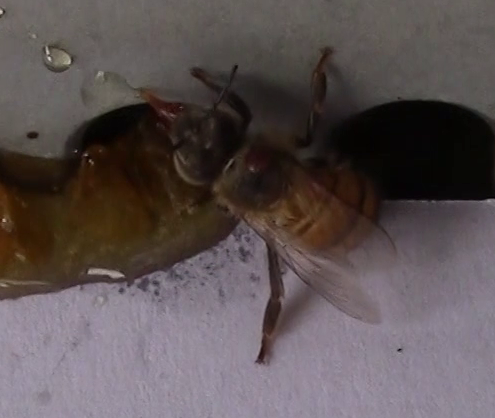Varroa destructor: (241, 144, 276, 174)
